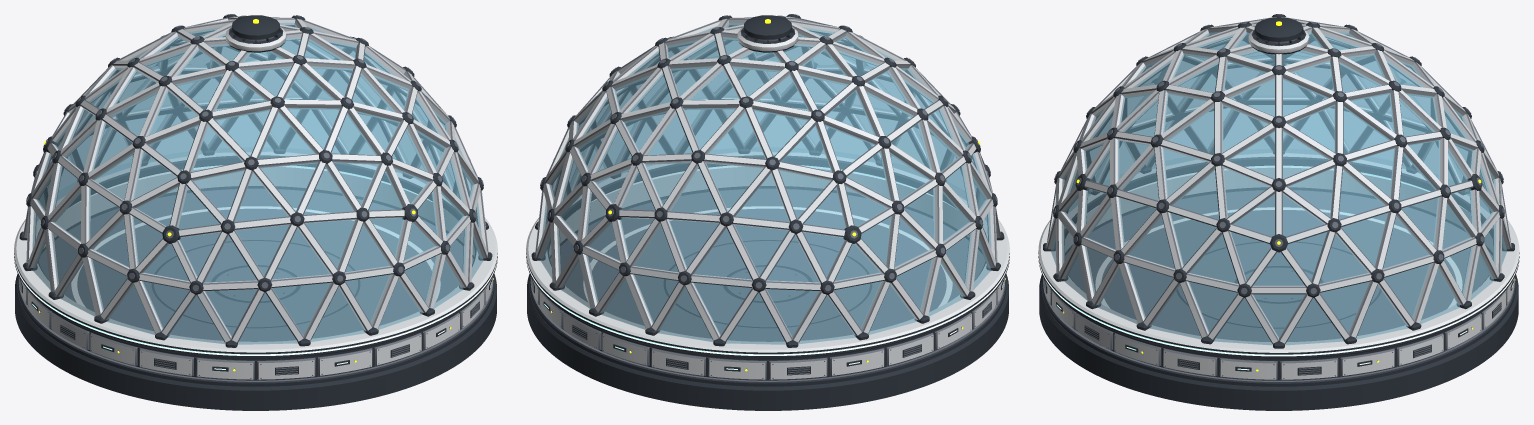
File: Dome_12m.fbx
The picture shows the model from 3 angles, left to right: view 1: azimuth 30°, elevation 25°; view 2: azimuth 150°, elevation 25°; view 3: azimuth 270°, elevation 25°; orthographic projection.
Parts seen in each view (by area): view 1: Dome_Frame, Dome_Glass, Dome_Base, Dome_Wall; view 2: Dome_Frame, Dome_Glass, Dome_Base, Dome_Wall; view 3: Dome_Frame, Dome_Glass, Dome_Base, Dome_Wall.
Boxes of the visible parts, box(x1,y1,x2,y2) form: Dome_Frame: box(14, 14, 497, 358); Dome_Glass: box(27, 23, 483, 344); Dome_Base: box(15, 189, 496, 410); Dome_Wall: box(17, 165, 494, 386); Dome_Frame: box(526, 14, 1009, 358); Dome_Glass: box(540, 23, 996, 344); Dome_Base: box(527, 189, 1008, 410); Dome_Wall: box(529, 165, 1006, 386); Dome_Frame: box(1038, 14, 1519, 358); Dome_Glass: box(1051, 32, 1506, 345); Dome_Base: box(1039, 190, 1518, 410); Dome_Wall: box(1042, 166, 1515, 386).
Size of the model in its own units: 12.32 by 8.15 by 12.32.
